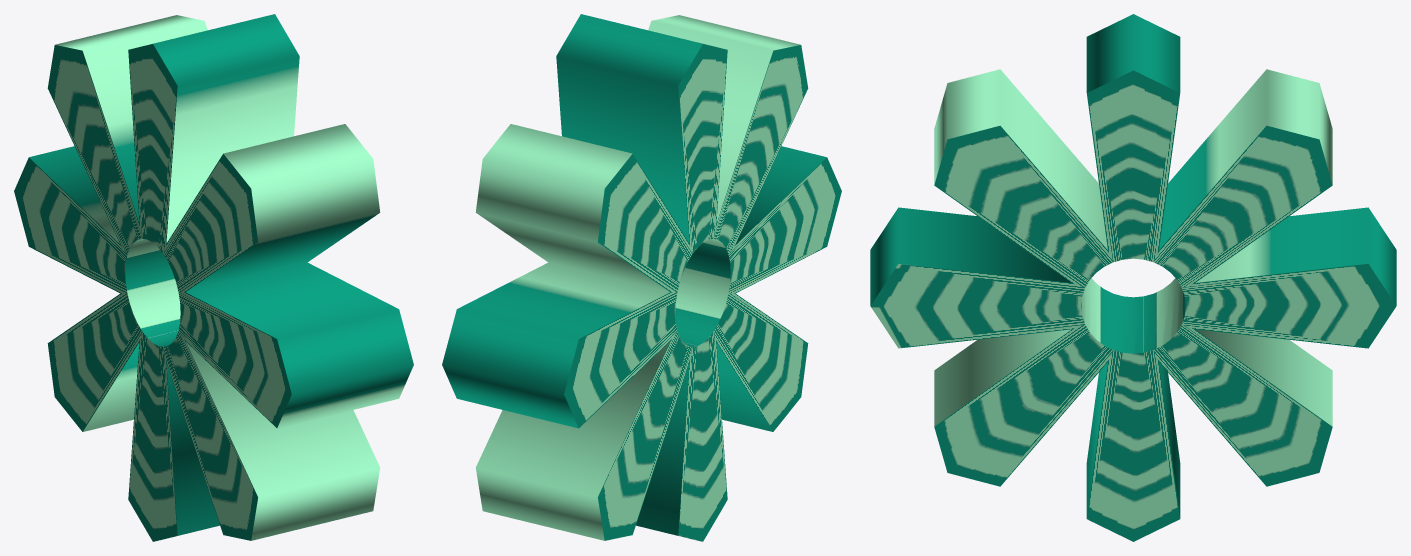
Rendered from UV_gear2.fbx.
3 views of the same model, side by side, from view 1: azimuth 30°, elevation 25°; view 2: azimuth 150°, elevation 25°; view 3: azimuth 270°, elevation 25° (orthographic). The views are drawn at different scales.
Parts seen in each view (by area): view 1: gear2; view 2: gear2; view 3: gear2.
Boxes of the visible parts, <box> form: gear2: <box>14,14,413,541</box>; gear2: <box>442,14,841,541</box>; gear2: <box>870,14,1396,541</box>.
Bounding box in the file's own units: 2 × 7.8 × 7.89.
1 material, 1 textured.
